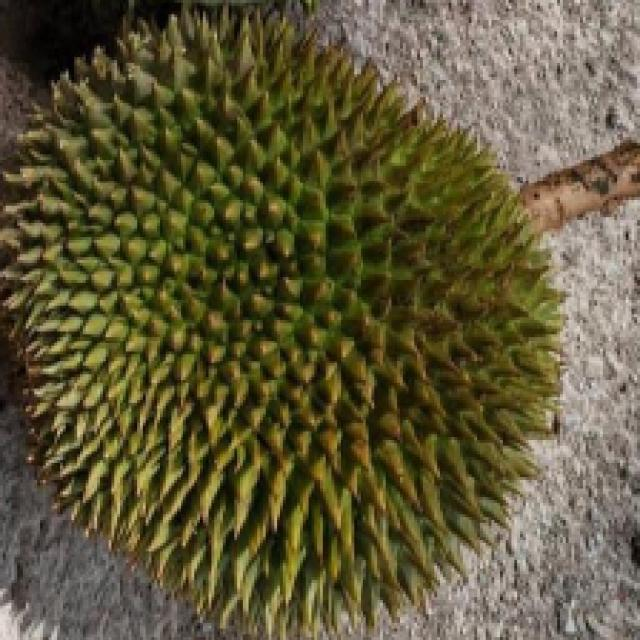d24: (36, 24, 640, 594)
